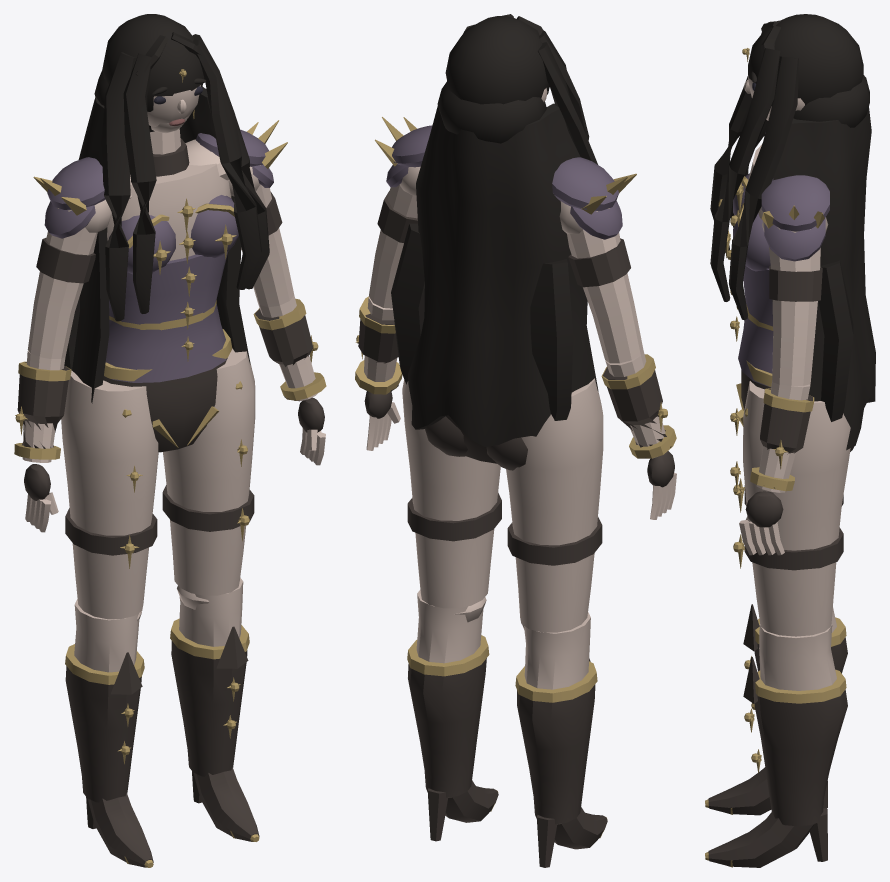
Rendered from mage.glb.
3 renders of one model, left to right at view 1: azimuth 30°, elevation 25°; view 2: azimuth 150°, elevation 25°; view 3: azimuth 270°, elevation 25°, orthographic. The views are drawn at different scales.
Parts seen in each view (by area): view 1: Torso, Head, LegL, LegR, ShinL, ShinR, Cape, ArmL, ForearmL, ForearmR, Pelvis, ArmR; view 2: Cape, LegL, ShinL, ShinR, Head, LegR, ArmL, ForearmL, Torso, ForearmR, ArmR, Pelvis; view 3: Head, ShinR, Cape, LegR, Torso, ForearmR, ArmR, ShinL, Pelvis, LegL.
Boxes of the visible parts, <box> form: Torso: <box>33,120,287,382</box>; Head: <box>94,14,269,321</box>; LegL: <box>61,370,158,620</box>; LegR: <box>162,348,255,609</box>; ShinL: <box>65,599,153,867</box>; ShinR: <box>170,578,259,841</box>; Cape: <box>64,86,250,403</box>; ArmL: <box>27,199,111,358</box>; ForearmL: <box>14,351,71,532</box>; ForearmR: <box>253,295,326,465</box>; Pelvis: <box>103,329,242,452</box>; ArmR: <box>228,165,294,307</box>; Cape: <box>391,103,598,446</box>; LegL: <box>506,378,603,632</box>; ShinL: <box>515,612,607,867</box>; ShinR: <box>407,590,498,841</box>; Head: <box>437,14,597,164</box>; LegR: <box>402,380,501,622</box>; ArmL: <box>559,201,643,363</box>; ForearmL: <box>601,350,676,519</box>; Torso: <box>375,117,636,239</box>; ForearmR: <box>355,296,402,450</box>; ArmR: <box>369,166,420,308</box>; Pelvis: <box>425,415,527,470</box>; Head: <box>710,14,869,320</box>; ShinR: <box>705,624,847,867</box>; Cape: <box>772,107,875,450</box>; LegR: <box>730,381,850,636</box>; Torso: <box>718,132,829,387</box>; ForearmR: <box>739,380,814,555</box>; ArmR: <box>762,217,828,385</box>; ShinL: <box>705,604,847,815</box>; Pelvis: <box>736,361,854,451</box>; LegL: <box>730,408,843,512</box>.
Bounding box in the file's own units: 0.7956 × 2.02 × 0.3809.
